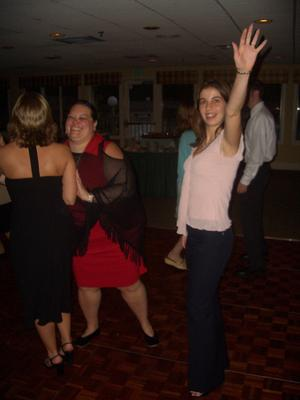person: (182, 22, 267, 394)
